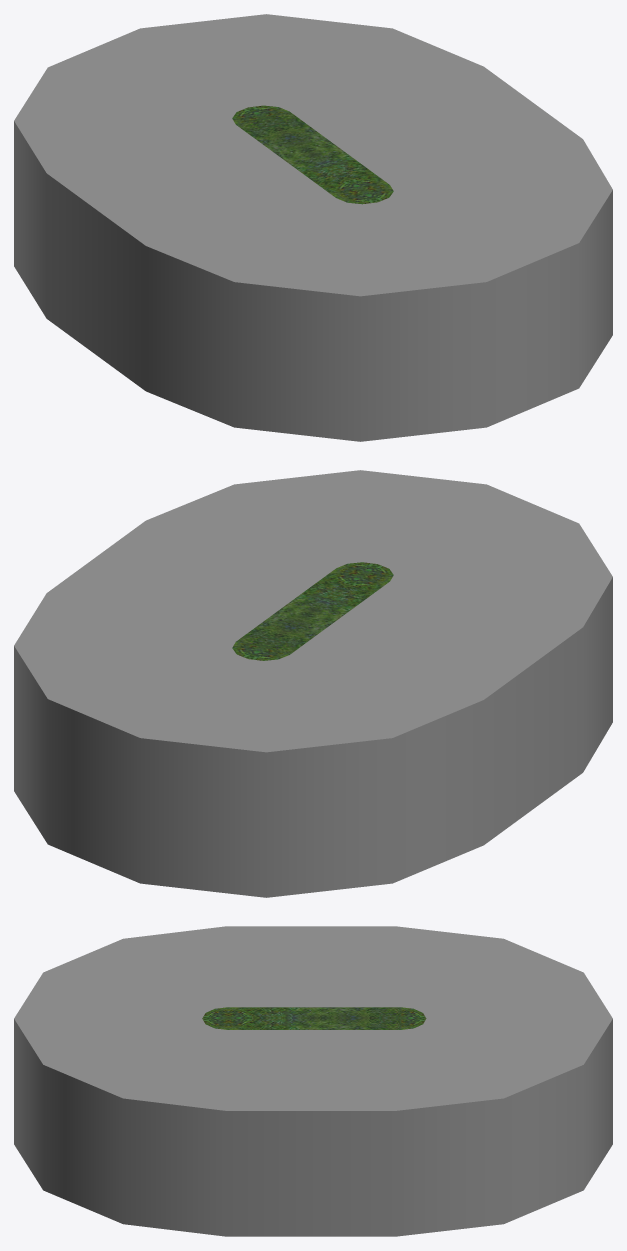
The model's file is Scene_Build_HuanYinFang_YuanTai_4.FBX.
The picture shows the model from 3 angles, top to bottom: view 1: azimuth 30°, elevation 25°; view 2: azimuth 150°, elevation 25°; view 3: azimuth 270°, elevation 25°; orthographic projection. The views are drawn at different scales.
Parts seen in each view (by area): view 1: Scene_Build_HuanYinFang_YuanTai_4_Xzm, Scene_Build_HuanYinFang_YuanTai_4; view 2: Scene_Build_HuanYinFang_YuanTai_4_Xzm, Scene_Build_HuanYinFang_YuanTai_4; view 3: Scene_Build_HuanYinFang_YuanTai_4_Xzm, Scene_Build_HuanYinFang_YuanTai_4.
Part boxes in pixels (<box>): Scene_Build_HuanYinFang_YuanTai_4_Xzm: <box>14,14,612,441</box>; Scene_Build_HuanYinFang_YuanTai_4: <box>232,105,393,204</box>; Scene_Build_HuanYinFang_YuanTai_4_Xzm: <box>14,470,612,897</box>; Scene_Build_HuanYinFang_YuanTai_4: <box>232,562,393,660</box>; Scene_Build_HuanYinFang_YuanTai_4_Xzm: <box>14,926,612,1236</box>; Scene_Build_HuanYinFang_YuanTai_4: <box>202,1007,426,1029</box>.
Bounding box in the file's own units: 869 × 278 × 1192.
